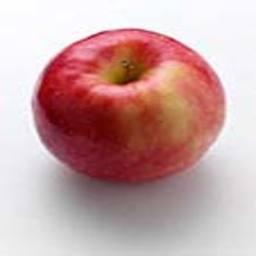apple: (31, 28, 228, 186)
